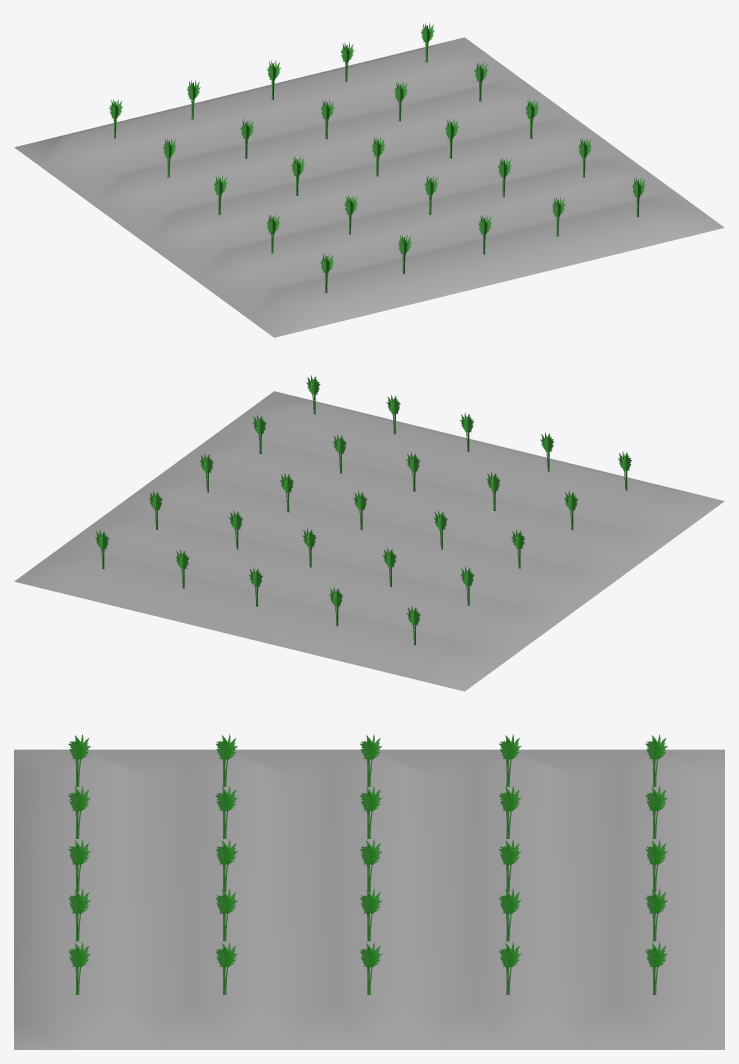
Rendered from MOD_FarmLand.fbx.
3 renders of one model, top to bottom at view 1: azimuth 30°, elevation 25°; view 2: azimuth 150°, elevation 25°; view 3: azimuth 270°, elevation 25°, orthographic. The views are drawn at different scales.
Visible parts, largest first — view 1: FarmLand1; view 2: FarmLand1; view 3: FarmLand1.
Part boxes in pixels (x1,y1,x2,y2): FarmLand1: (14, 23, 724, 337); FarmLand1: (14, 375, 724, 691); FarmLand1: (14, 734, 724, 1049).
Bounding box in the file's own units: 478 × 50.94 × 478.
